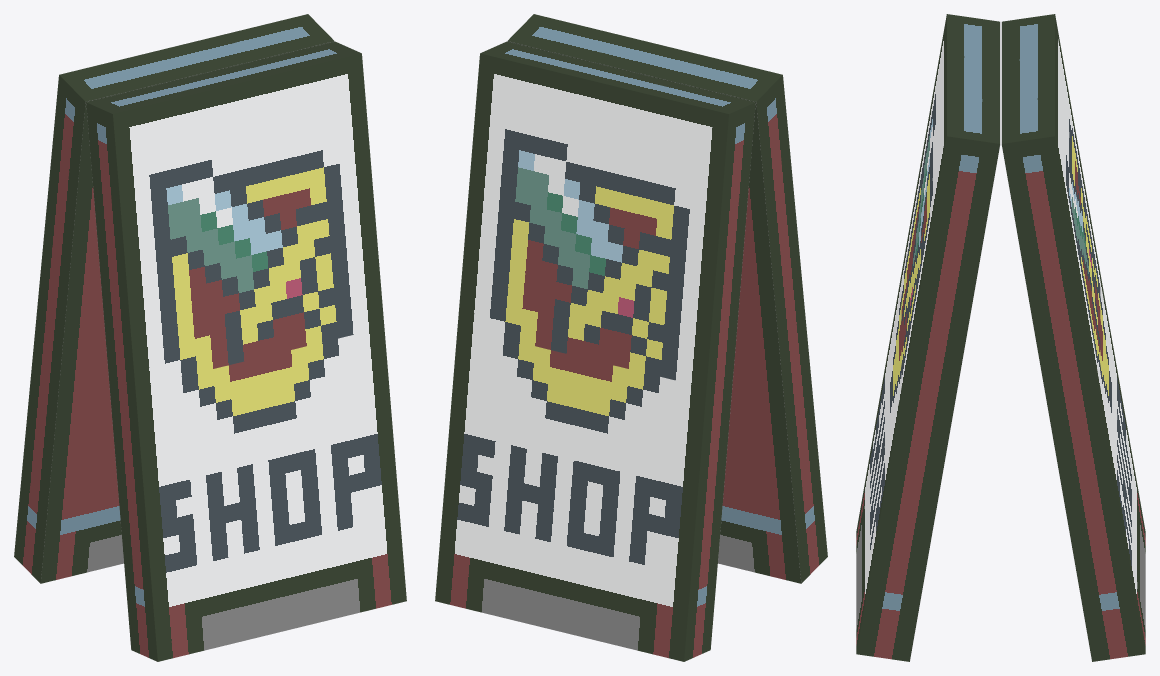
File: sign_shop.glb
3 renders of one model, left to right at view 1: azimuth 30°, elevation 25°; view 2: azimuth 150°, elevation 25°; view 3: azimuth 270°, elevation 25°, orthographic.
Visible parts, largest first — view 1: Cube; view 2: Cube; view 3: Cube.
Boxes of the visible parts, x1=… form: Cube: x1=14, y1=14, x2=406, y2=661; Cube: x1=435, y1=14, x2=827, y2=661; Cube: x1=856, y1=14, x2=1145, y2=661.
Size of the model in its own units: 1 by 2 by 1.
1 material, 1 textured.
